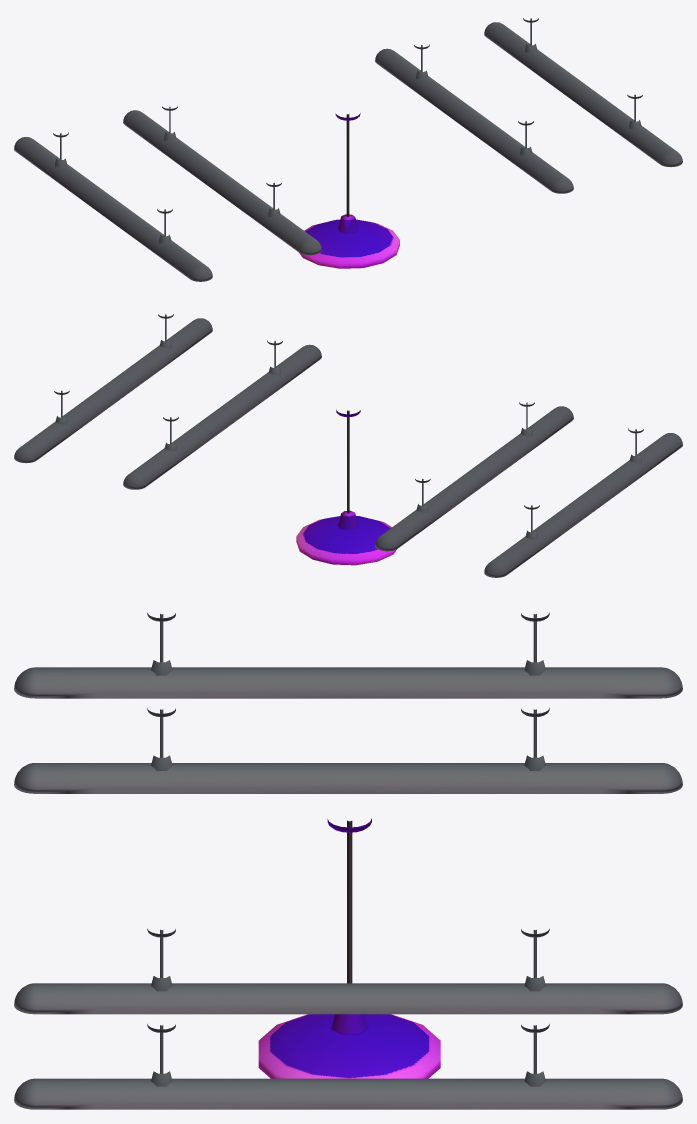
Rendered from Lights.glb.
3 views of the same model, one above another, from view 1: azimuth 30°, elevation 25°; view 2: azimuth 150°, elevation 25°; view 3: azimuth 270°, elevation 25° (orthographic). The views are drawn at different scales.
Parts seen in each view (by area): view 1: Lights; view 2: Lights; view 3: Lights.
Boxes of the visible parts, x1,y1,x2,y2 form: Lights: [14, 18, 682, 281]; Lights: [14, 314, 682, 577]; Lights: [14, 612, 682, 1109].
Size of the model in its own units: 17.05 by 4.69 by 11.21.
Materials: 2 (2 with a texture image).
